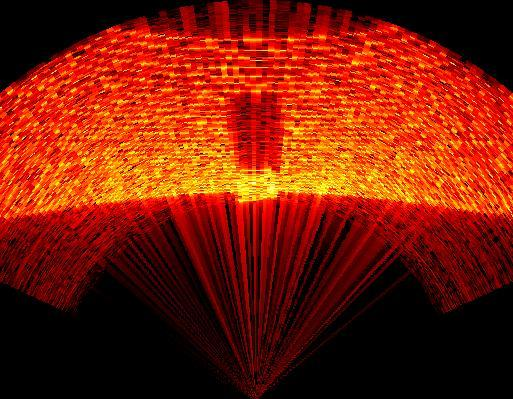box_crate: (222, 85, 290, 183)
